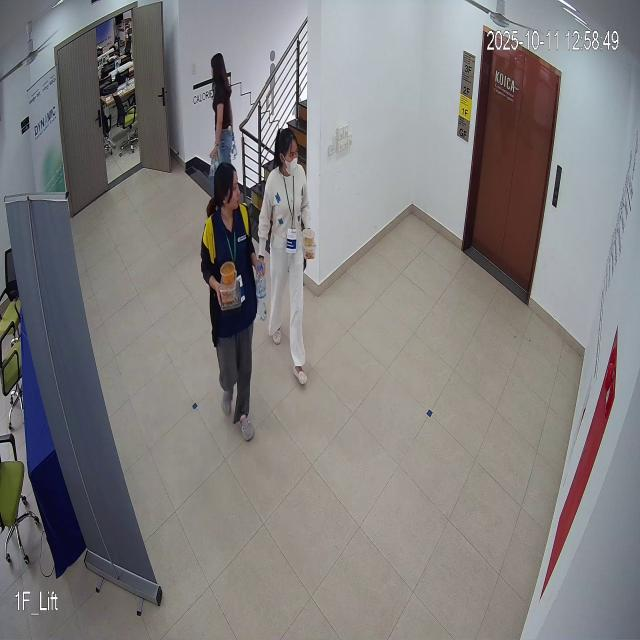face: (209, 156, 243, 223)
